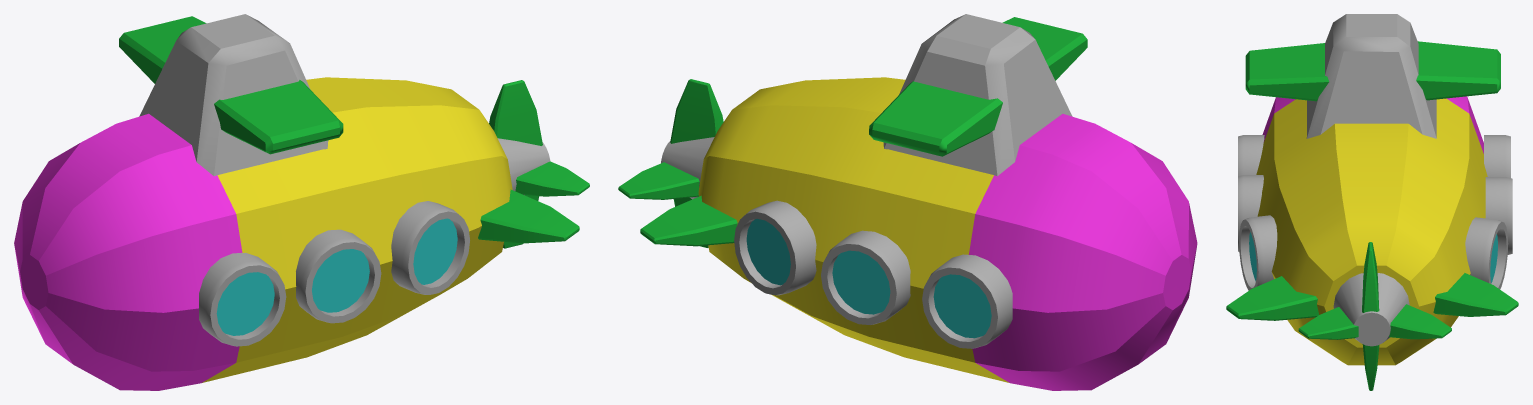
The model's file is submarine.fbx.
3 renders of one model, left to right at view 1: azimuth 30°, elevation 25°; view 2: azimuth 150°, elevation 25°; view 3: azimuth 270°, elevation 25°, orthographic. The views are drawn at different scales.
Visible parts, largest first — view 1: polySurface16; view 2: polySurface16; view 3: polySurface16.
Part boxes in pixels (x1,y1,x2,y2): polySurface16: (14, 14, 589, 390); polySurface16: (618, 14, 1197, 390); polySurface16: (1226, 14, 1518, 390).
Bounding box in the file's own units: 300 × 179 × 170.
